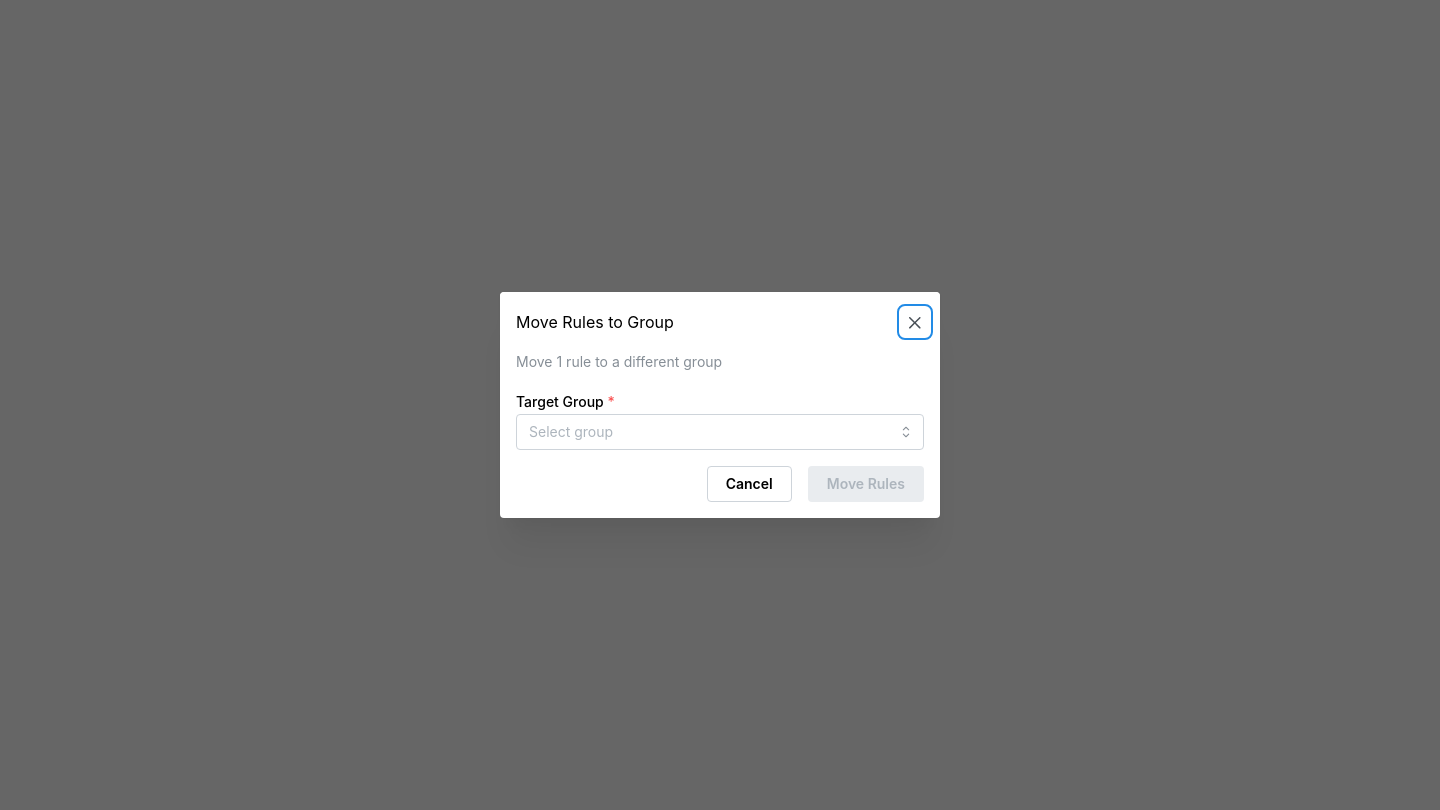
Scenario: MoveToGroupModal › group selection › shows empty state when no groups available
This screenshot has width=1440, height=810.
Click the field with placeholder "Select group" at (720, 432), box [516,414,924,450]
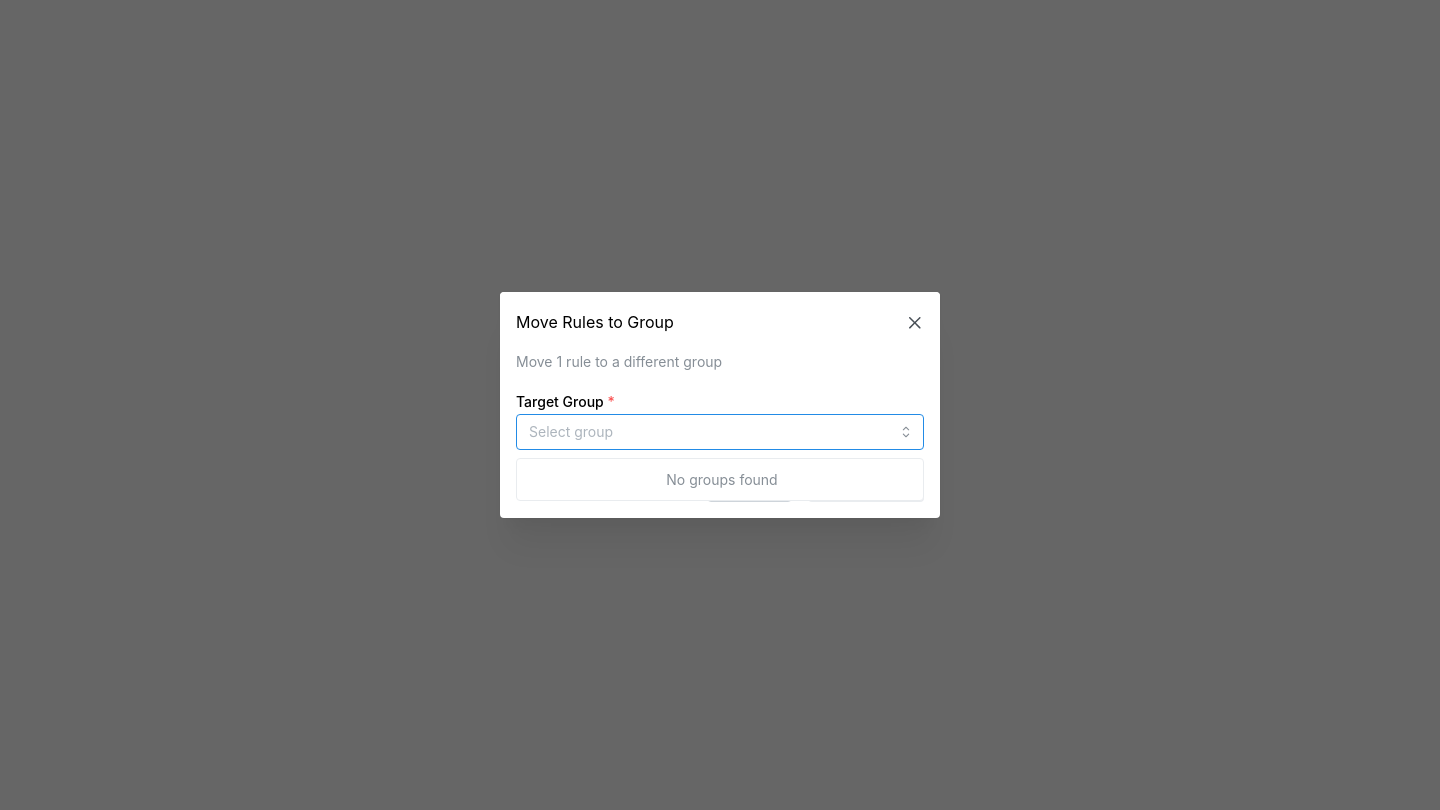
expect the text "No groups found" is shown: met, box [666,470,778,488]
